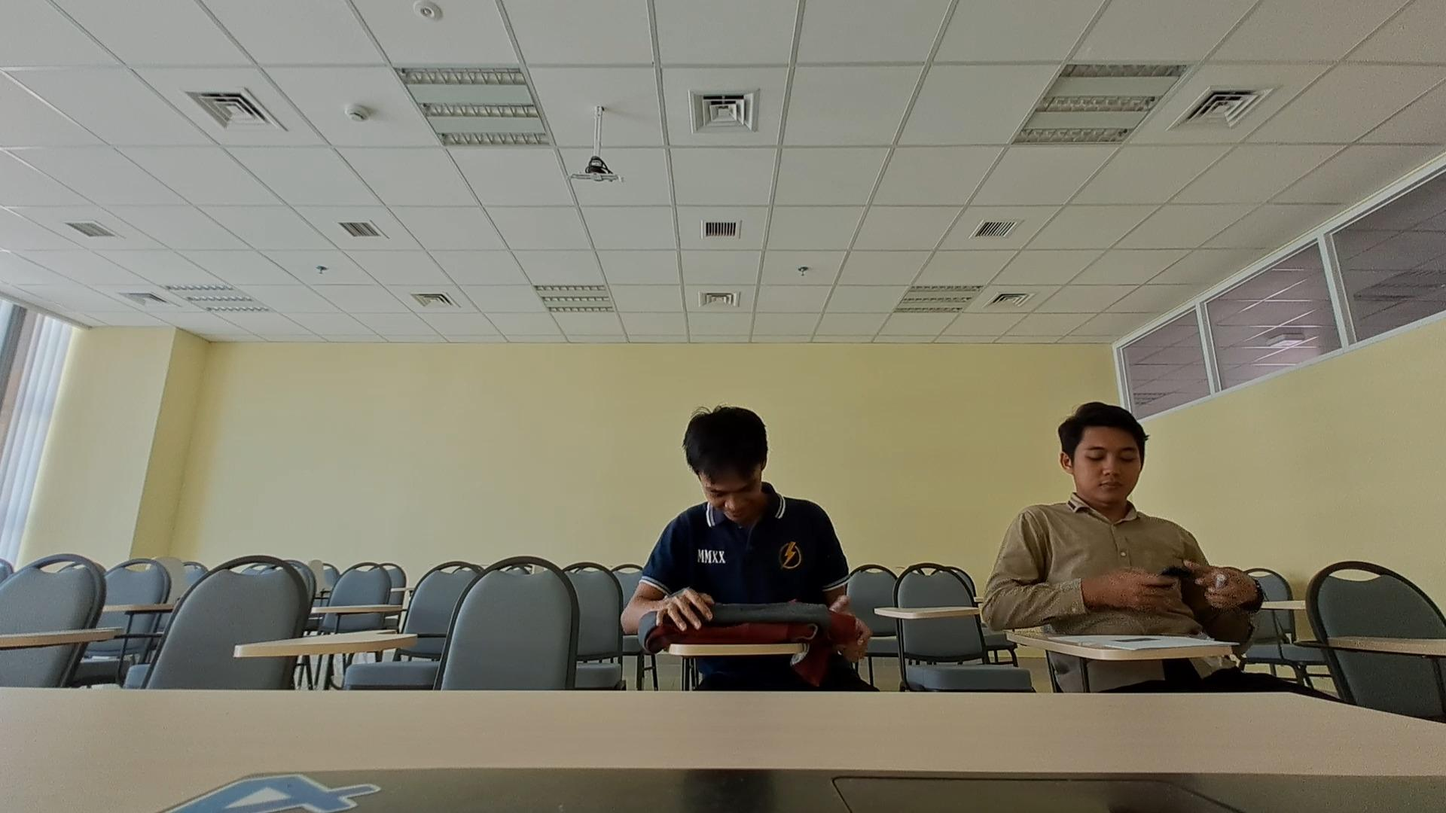phone: (990, 405, 1263, 632)
study: (621, 399, 851, 644)
